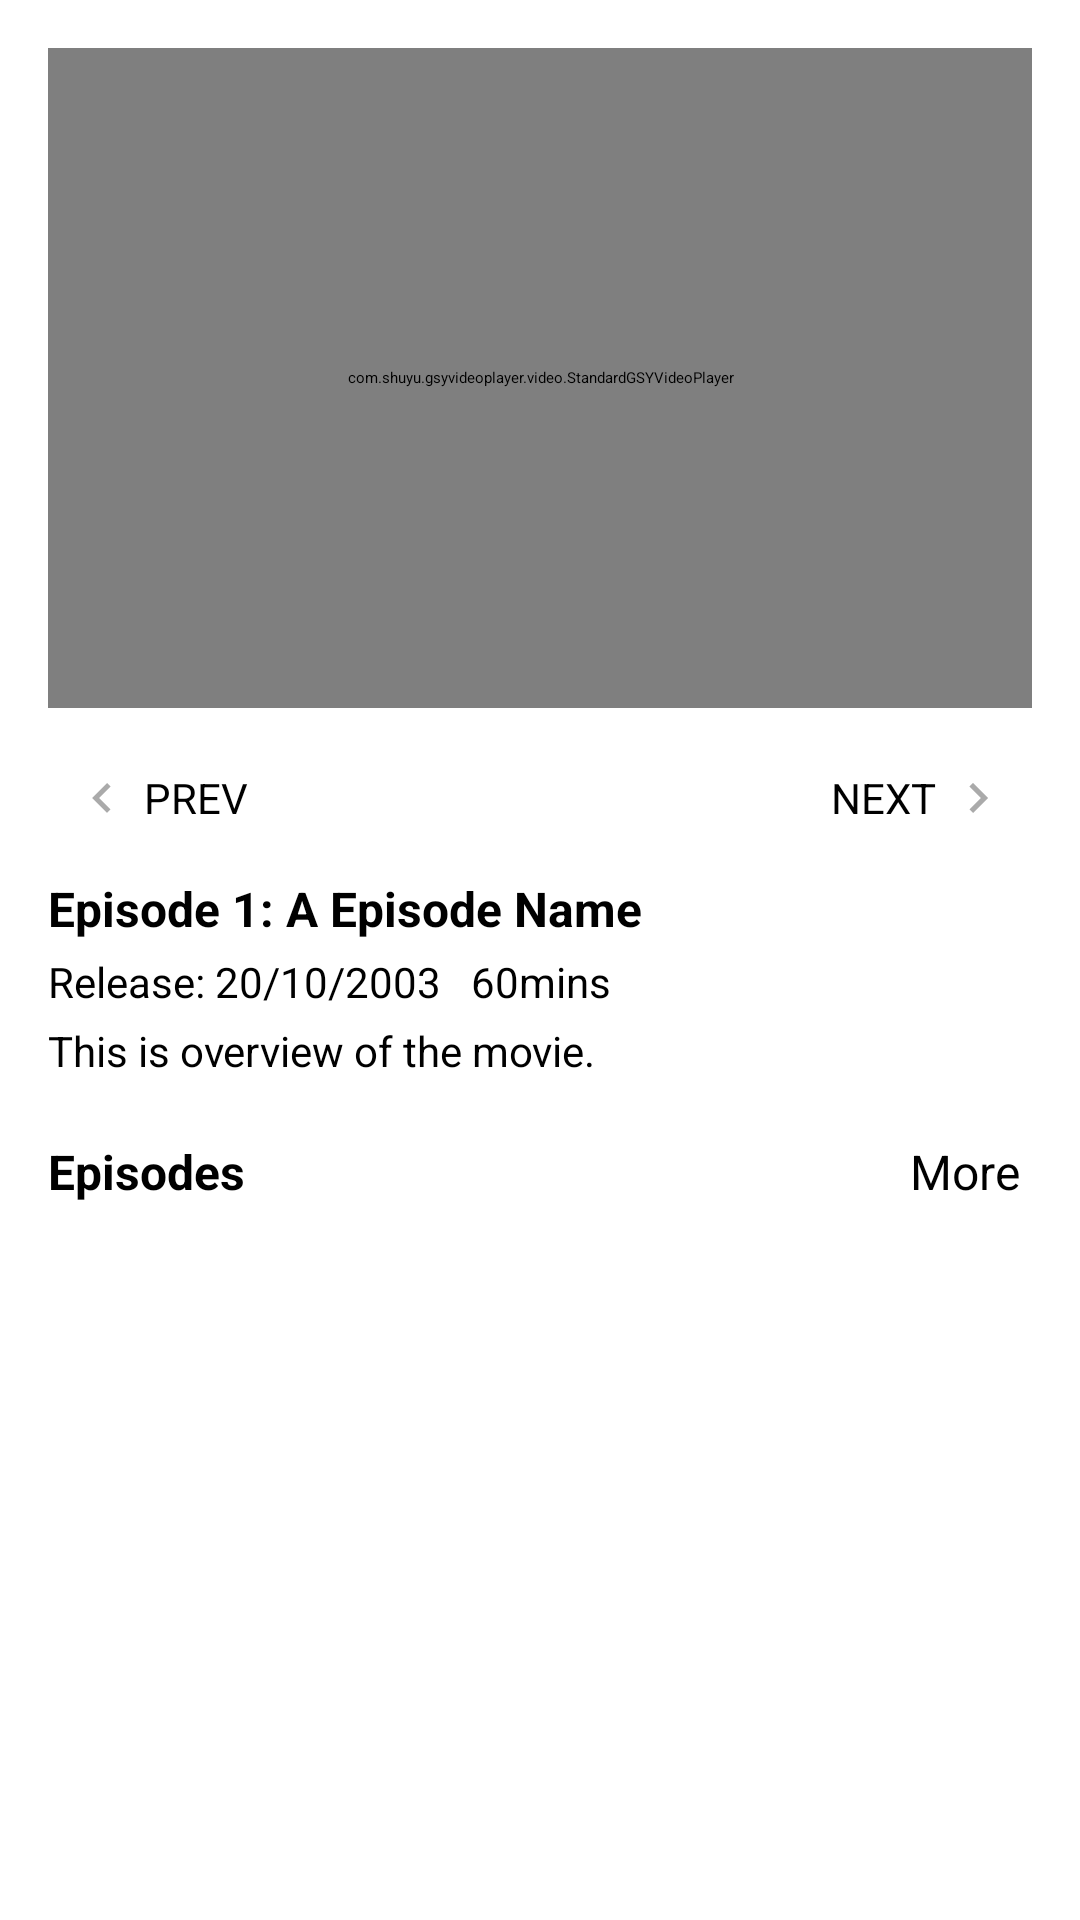

Icons on this 1080 × 1920 Android screen, each with its box as box(x1, y1, x2, y2):
arrow left: box(92, 783, 111, 813)
arrow right: box(969, 783, 988, 813)
